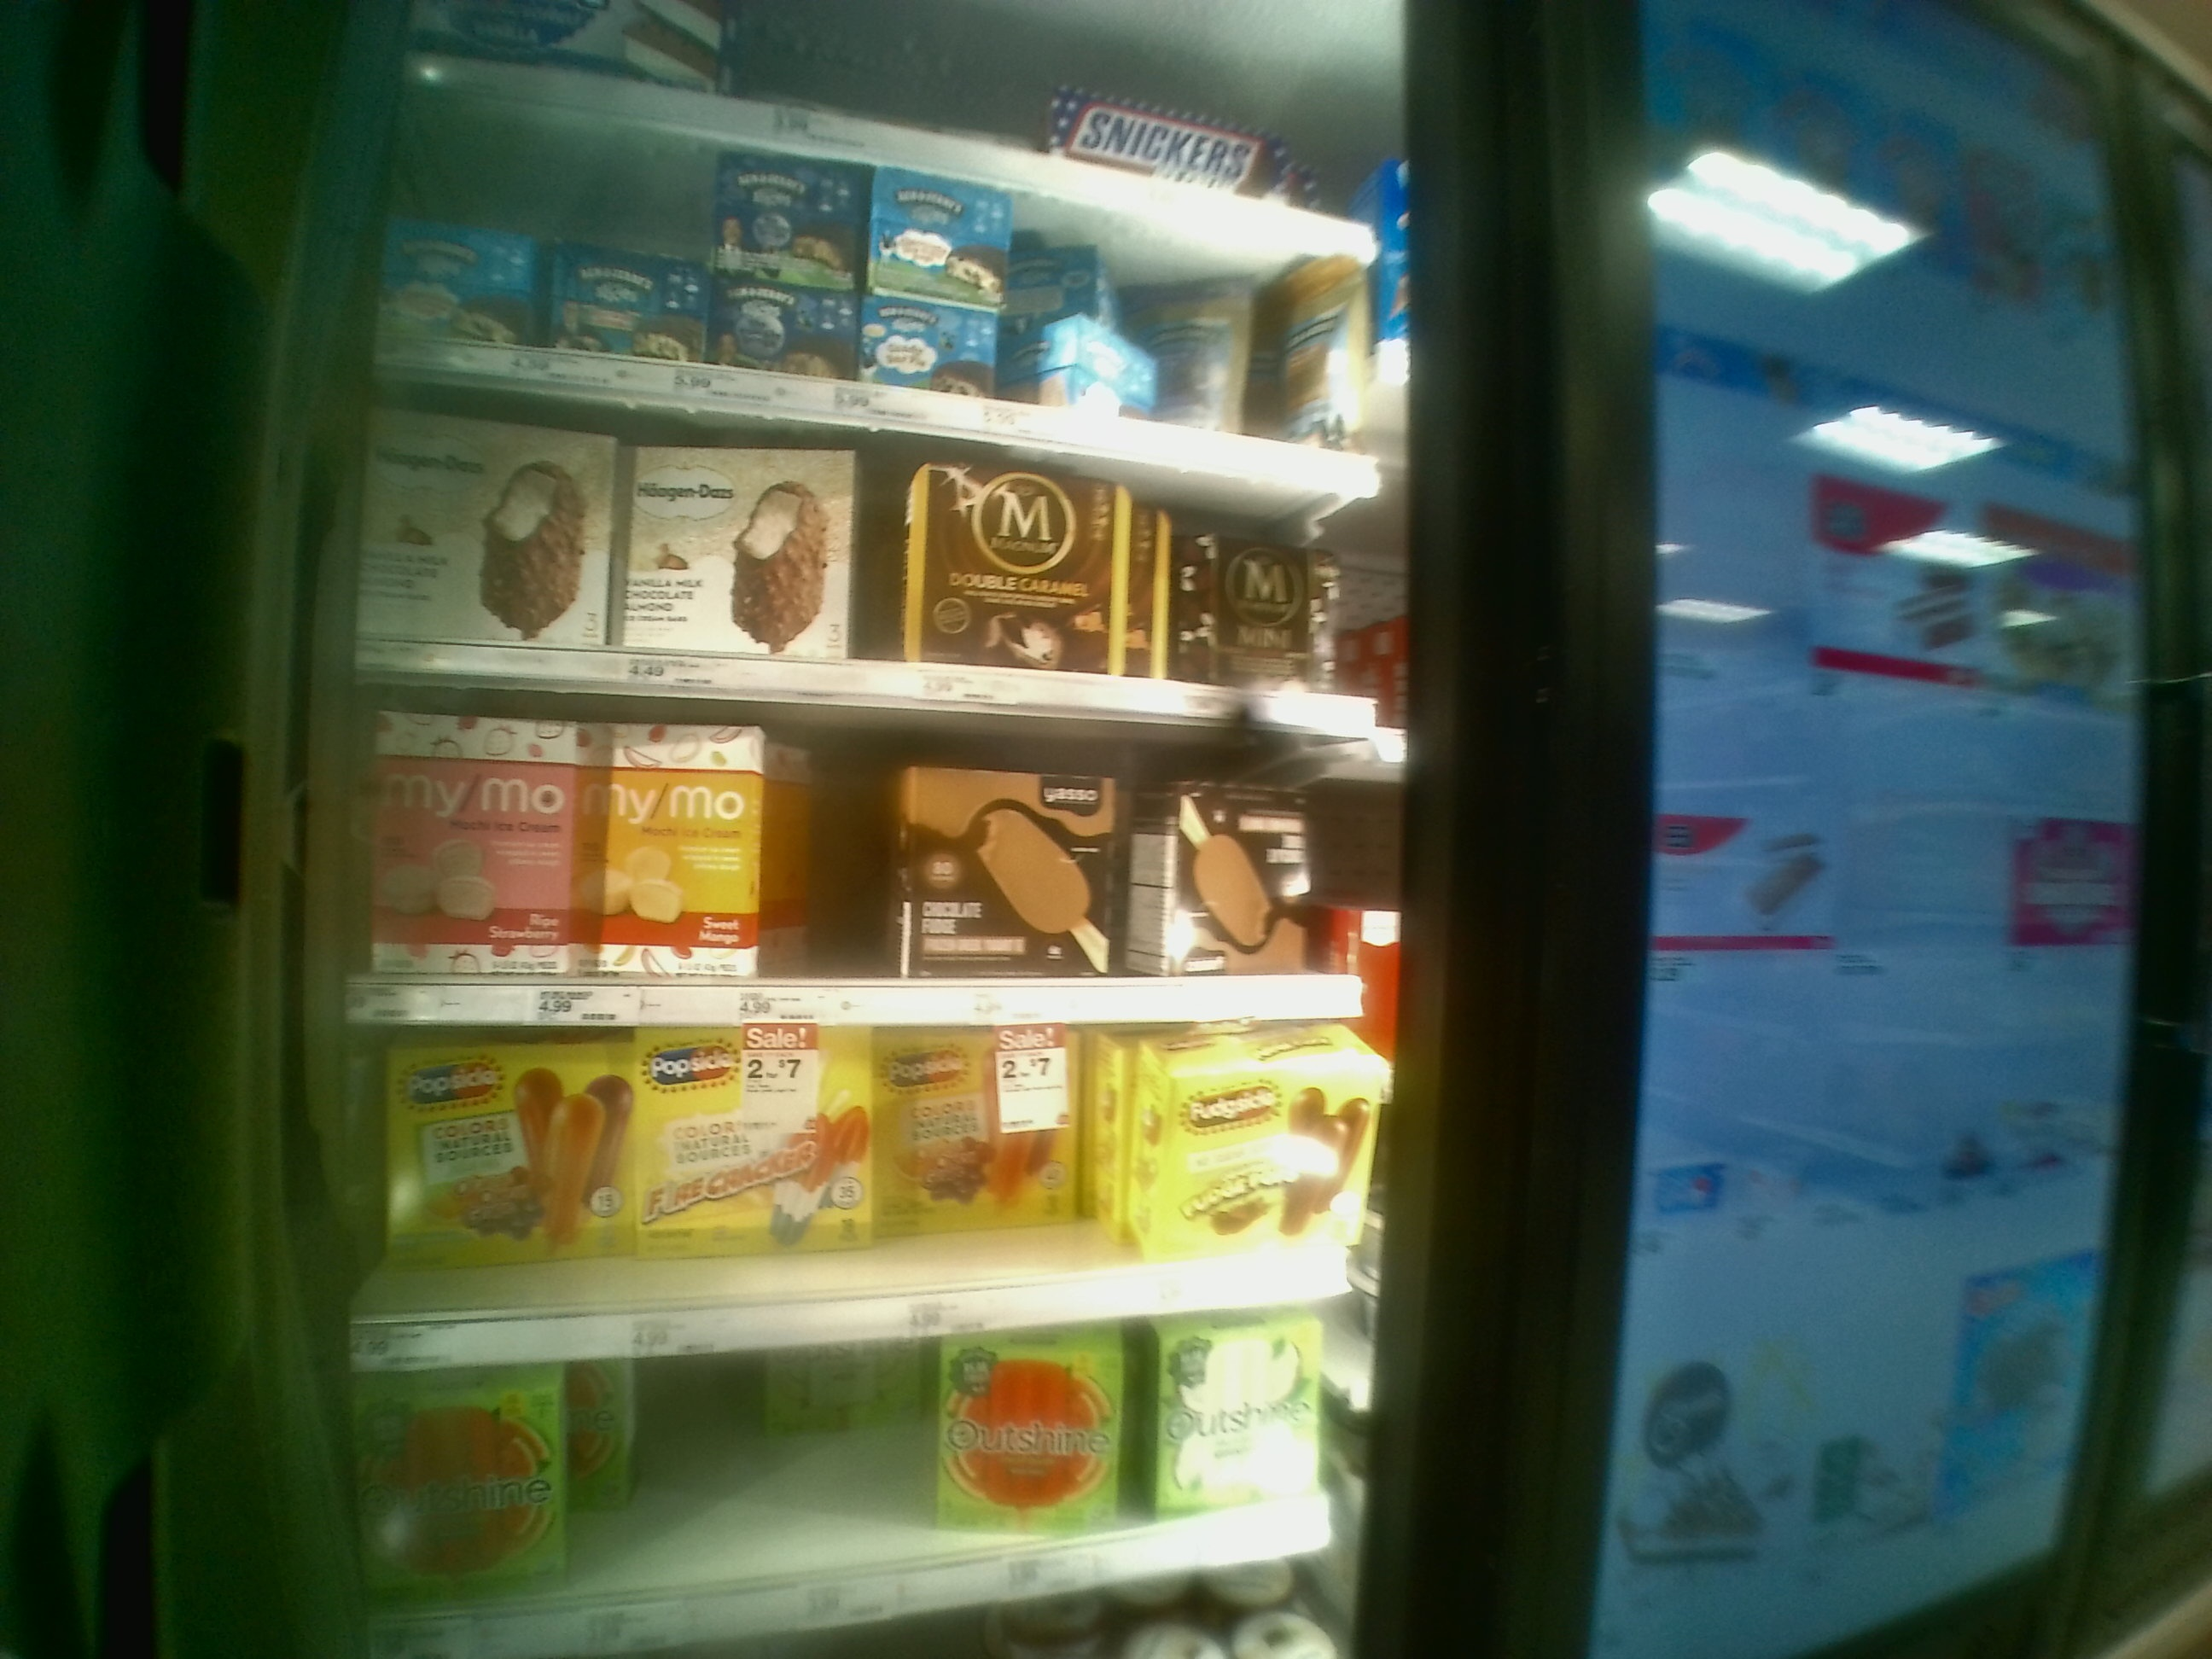ice-cream-shelf: (364, 1023, 1385, 1364), (364, 692, 1374, 1018)
